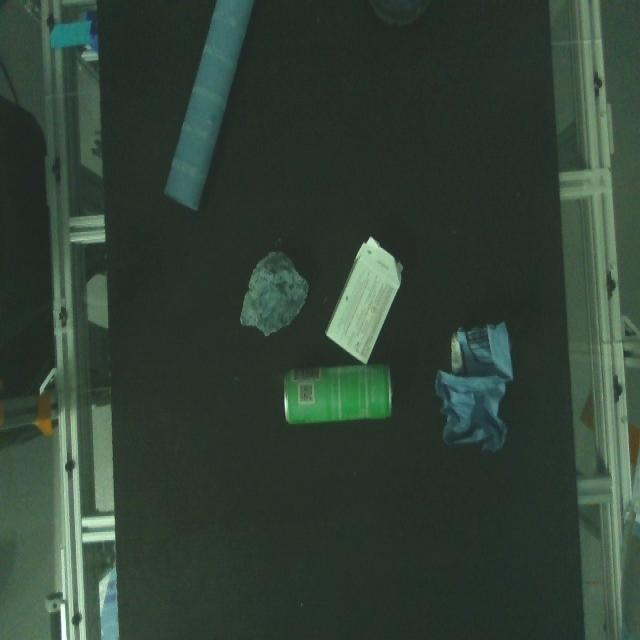non-paper: (278, 360, 400, 432), (234, 242, 320, 341)
paper: (159, 0, 262, 216), (431, 311, 529, 462), (321, 229, 409, 366)
